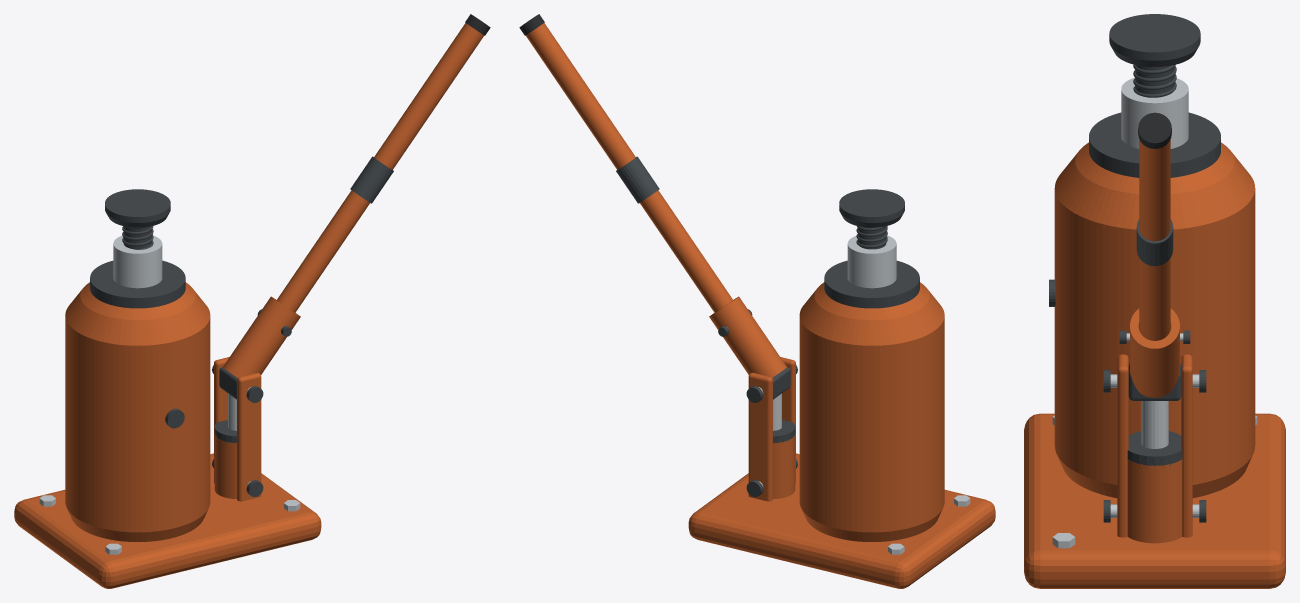
The model's file is A-NEW-20261026-BOTTLE-JACK-001_LOD0_R3.fbx.
The picture shows the model from 3 angles, left to right: view 1: azimuth 30°, elevation 25°; view 2: azimuth 150°, elevation 25°; view 3: azimuth 270°, elevation 25°; orthographic projection. The views are drawn at different scales.
Visible parts, largest first — view 1: closed oil reservoir, rounded load base, assembled tubular handle, open handle socket, ram retaining collar, pump pivot cheek, flat circular saddle, supported polished ram, pump cylinder, handle section coupling, pump pivot cheek.001; view 2: closed oil reservoir, rounded load base, assembled tubular handle, open handle socket, ram retaining collar, pump pivot cheek.001, flat circular saddle, supported polished ram, pump cylinder, handle section coupling, pump pivot cheek; view 3: closed oil reservoir, rounded load base, assembled tubular handle, ram retaining collar, pump cylinder, flat circular saddle, open handle socket, supported polished ram, pump pivot cheek, pump pivot cheek.001, pump top seal, pump plunger (+5 smaller).
Part boxes in pixels (x1,y1,x2,y2): closed oil reservoir: (65,282,210,541); rounded load base: (14,453,321,588); assembled tubular handle: (276,23,484,312); open handle socket: (223,296,300,377); ram retaining collar: (90,260,185,308); pump pivot cheek: (237,372,261,501); flat circular saddle: (105,189,170,227); supported polished ram: (113,235,162,288); pump cylinder: (214,434,236,498); handle section coupling: (350,156,393,203); pump pivot cheek.001: (214,357,229,483); closed oil reservoir: (799,282,944,541); rounded load base: (688,453,995,588); assembled tubular handle: (525,23,733,312); open handle socket: (709,296,786,377); ram retaining collar: (824,260,919,308); pump pivot cheek.001: (748,372,772,501); flat circular saddle: (839,189,904,227); supported polished ram: (847,235,896,288); pump cylinder: (773,434,795,498); handle section coupling: (616,156,659,203); pump pivot cheek: (780,357,795,483); closed oil reservoir: (1054,142,1255,498); rounded load base: (1024,413,1285,588); assembled tubular handle: (1139,139,1170,340); ram retaining collar: (1089,112,1220,177); pump cylinder: (1127,459,1182,543); flat circular saddle: (1109,14,1200,66); open handle socket: (1130,308,1179,397); supported polished ram: (1121,77,1188,148); pump pivot cheek: (1117,354,1128,537); pump pivot cheek.001: (1181,354,1192,537); pump top seal: (1127,431,1182,468); pump plunger: (1141,401,1168,448).
Size of the model in its own units: 30.24 by 29.69 by 11.5.
